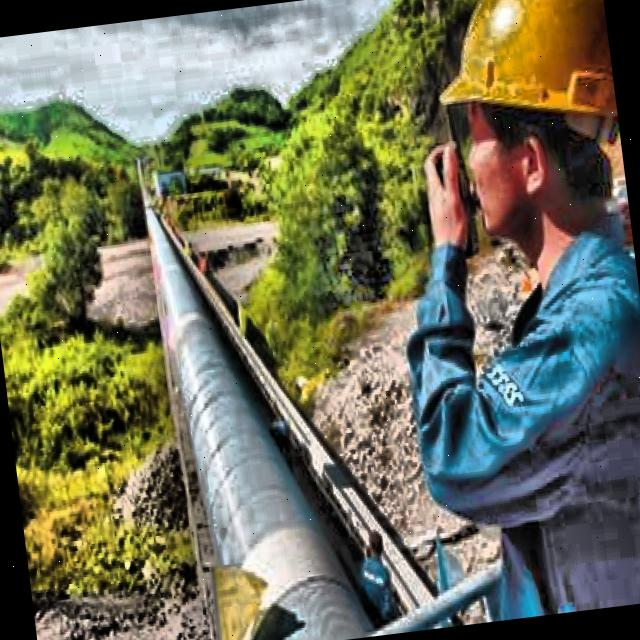helmet: (420, 0, 630, 253)
